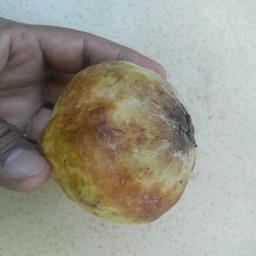Bad_guava: (45, 60, 193, 225)
